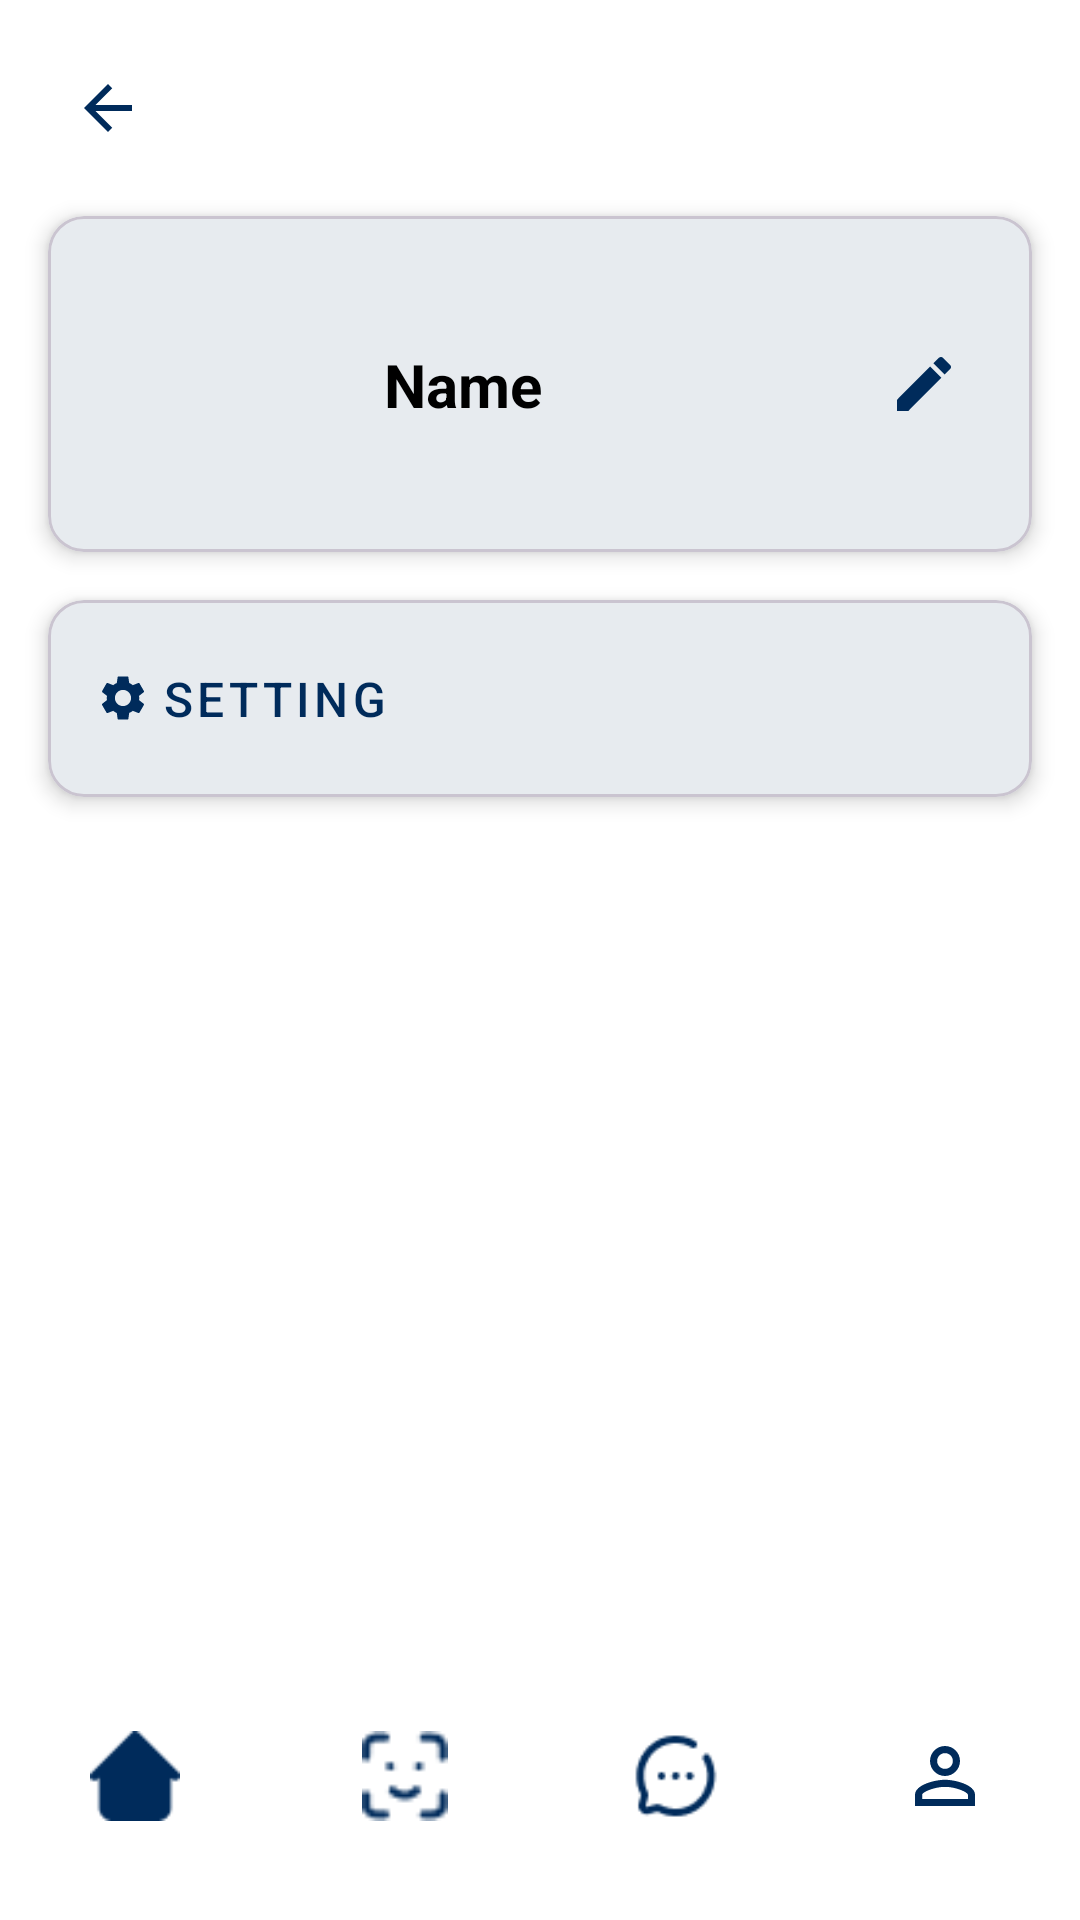

Screen size 1080w x 1920h. Icon name, then its box in pixels as (x1, y1, x2, y2):
arrow back: (84, 84, 132, 132)
edit: (897, 357, 951, 411)
